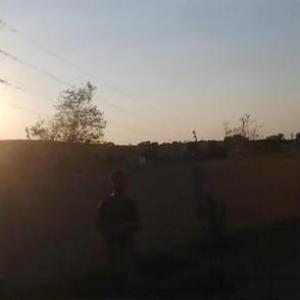follow: (97, 166, 153, 299)
